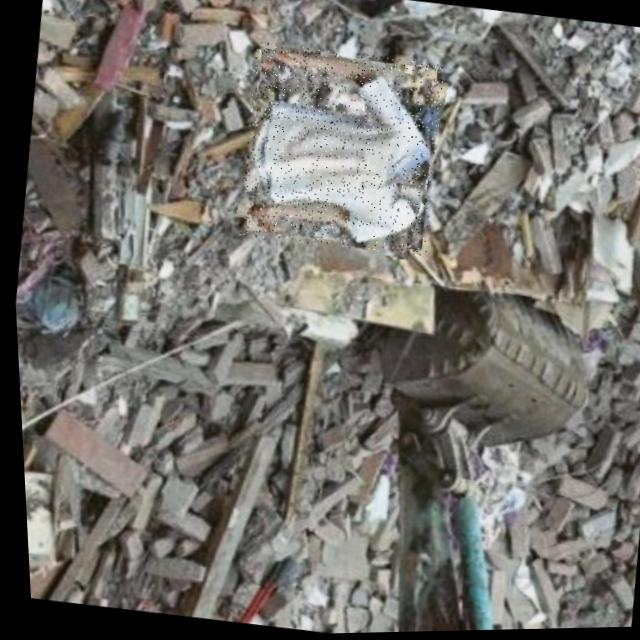Person in Rubble: (228, 39, 450, 262)
